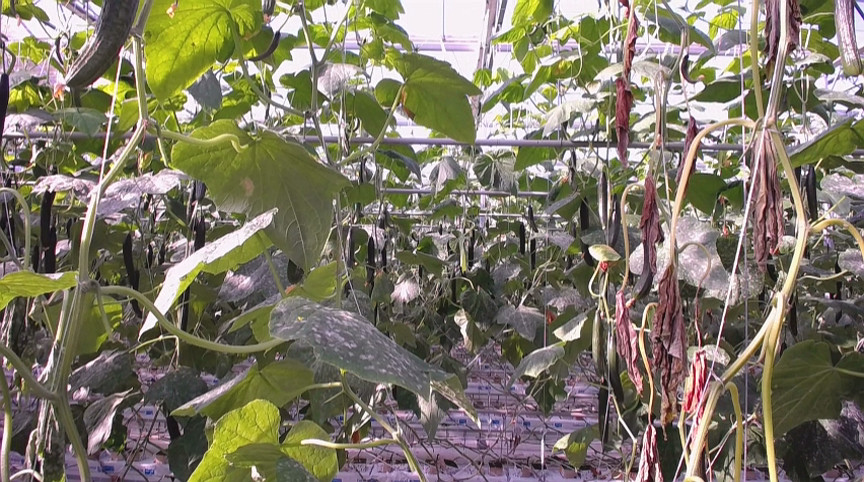cucumber: (65, 1, 139, 87), (40, 163, 59, 251), (123, 234, 135, 289), (597, 171, 608, 230)
